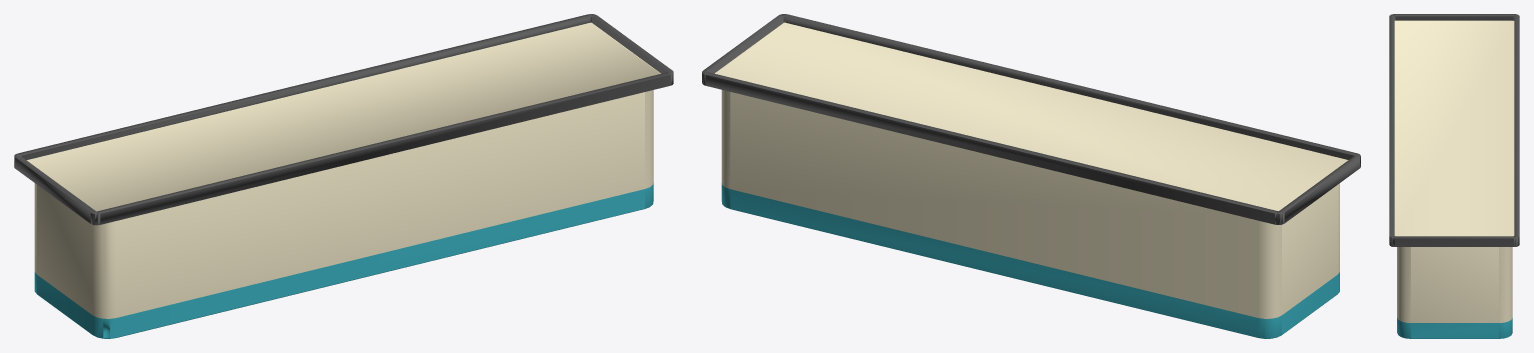
Rendered from waimaitai.FBX.
The picture shows the model from 3 angles, left to right: view 1: azimuth 30°, elevation 25°; view 2: azimuth 150°, elevation 25°; view 3: azimuth 270°, elevation 25°; orthographic projection. The views are drawn at different scales.
Visible parts, largest first — view 1: waimaitai; view 2: waimaitai; view 3: waimaitai.
Boxes of the visible parts, x1,y1,x2,y2 form: waimaitai: [14, 14, 673, 338]; waimaitai: [702, 14, 1360, 338]; waimaitai: [1389, 14, 1519, 338].
Size of the model in its own units: 198 by 43.38 by 48.65.
